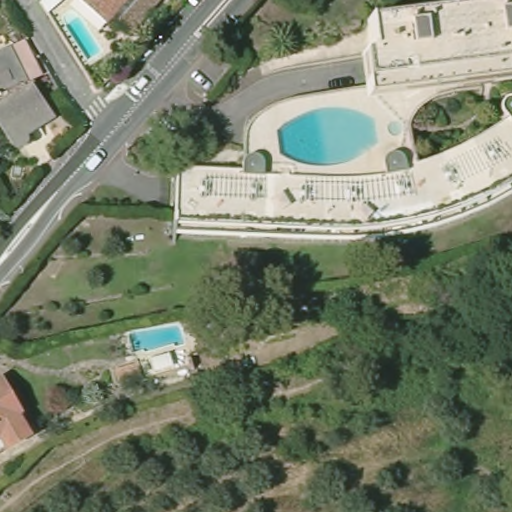pool: (277, 98, 409, 171), (50, 5, 113, 67), (123, 326, 188, 355)
